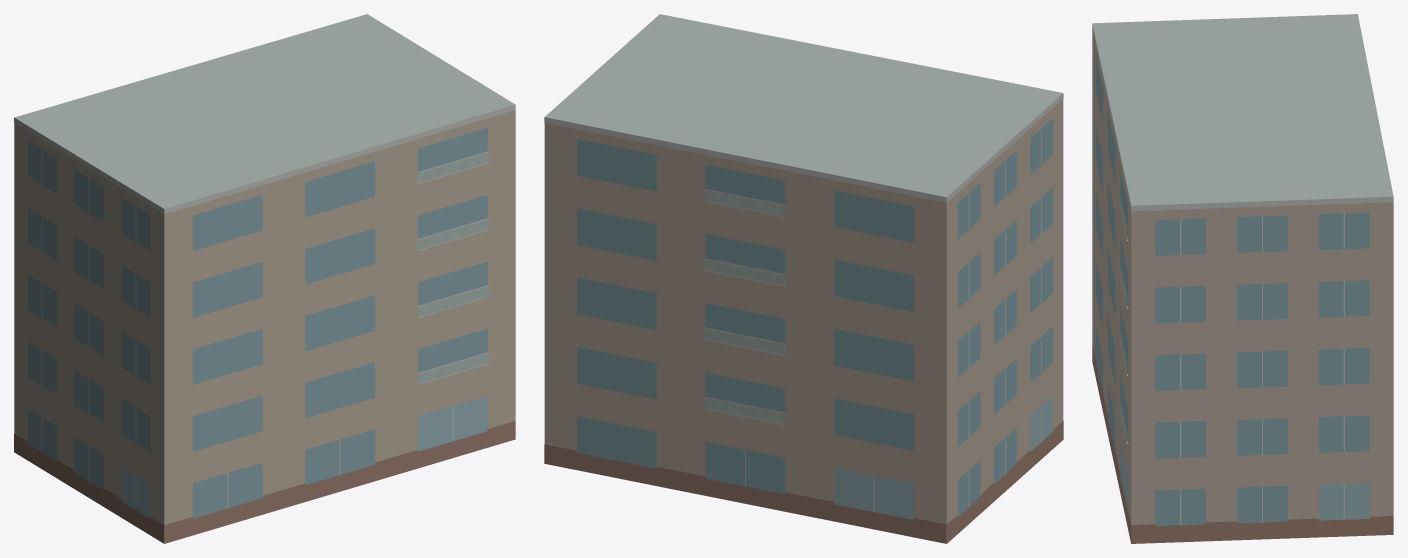
File: survey-upis-32735030.glb
3 views of the same model, side by side, from view 1: azimuth 30°, elevation 25°; view 2: azimuth 150°, elevation 25°; view 3: azimuth 270°, elevation 25° (orthographic). The views are drawn at different scales.
Visible parts, largest first — view 1: survey-upis-32735030.tmp; view 2: survey-upis-32735030.tmp; view 3: survey-upis-32735030.tmp.
Part boxes in pixels (box(x1,y1,x2,y2)): survey-upis-32735030.tmp: box(14, 14, 515, 543); survey-upis-32735030.tmp: box(544, 14, 1063, 543); survey-upis-32735030.tmp: box(1092, 14, 1393, 543).
Size of the model in its own units: 18.57 by 15.25 by 12.33.
